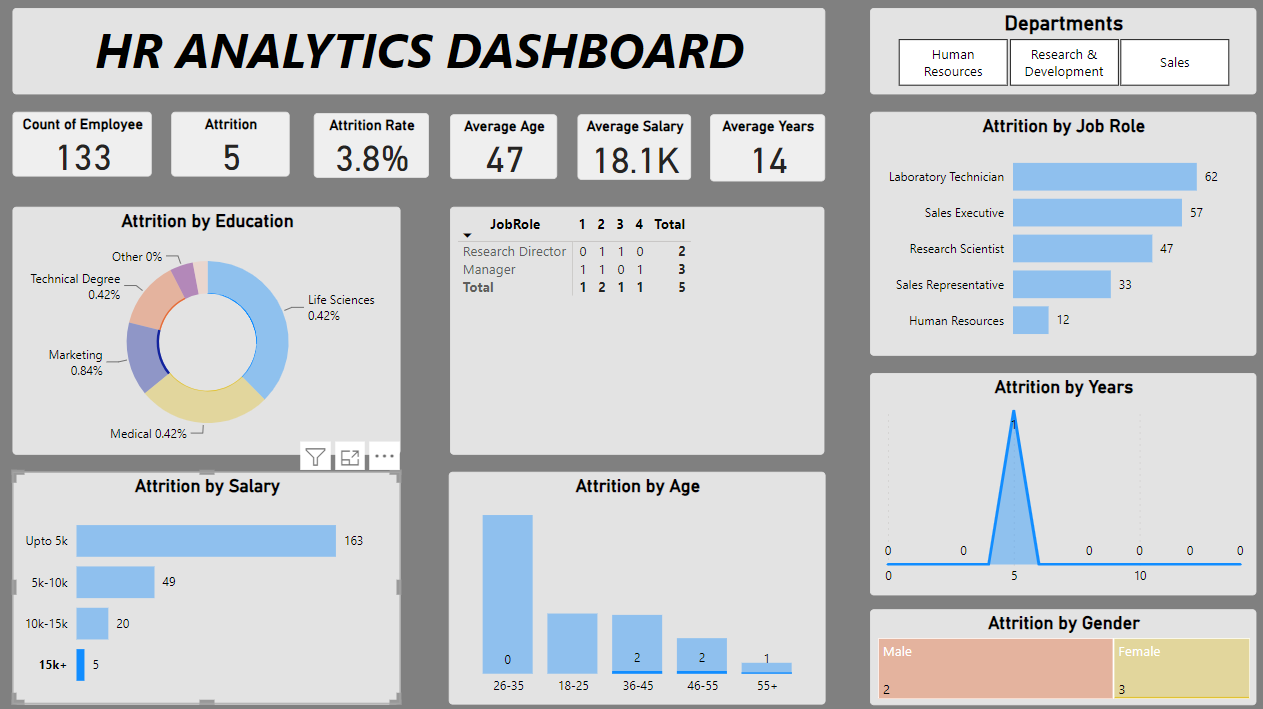

The page's visual inventory and layout, read from the dashboard file:
{"tool":"powerbi","page":{"name":"Page 1","canvas":[1280,720],"ordinal":0},"visuals":[{"type":"card","title":"Count of Employee","fields":{"Values":["CountNonNull(HR_Analytics.EmpID)"]},"box":[17,113.8,139.4,64.9],"z":0},{"type":"card","title":"Attrition","fields":{"Values":["Sum(HR_Analytics.AttritionCount)"]},"box":[176.6,113.8,118.1,64.9],"z":1000},{"type":"card","title":"Attrition Rate","fields":{"Values":["HR_Analytics.AttritionRate"]},"box":[319.1,114.9,114.9,64.9],"z":2000},{"type":"card","title":"Average Age ","fields":{"Values":["Avg(HR_Analytics.Age)"]},"box":[455.3,116,107.4,64.9],"z":3000},{"type":"card","title":"Average Salary","fields":{"Values":["Avg(HR_Analytics.MonthlyIncome)"]},"box":[583,116,113.8,66],"z":4000},{"type":"card","title":"Average Years ","fields":{"Values":["Avg(HR_Analytics.YearsAtCompany)"]},"box":[714.9,116,114.9,67],"z":5000},{"type":"donutChart","title":"Attrition by Education","fields":{"Category":["HR_Analytics.EducationField"],"Y":["Sum(HR_Analytics.AttritionCount)"]},"box":[17,208.5,388.3,247.9],"z":6000},{"type":"columnChart","title":"Attrition by Age","fields":{"Category":["HR_Analytics.AgeGroup"],"Y":["Sum(HR_Analytics.AttritionCount)"]},"box":[453.2,473.4,376.6,233],"z":7000},{"type":"pivotTable","fields":{"Rows":["HR_Analytics.JobRole"],"Columns":["HR_Analytics.JobSatisfaction"],"Values":["Sum(HR_Analytics.AttritionCount)"]},"box":[455.3,208.5,374.5,247.9],"z":8000},{"type":"barChart","title":"Attrition by Salary","fields":{"Category":["HR_Analytics.SalarySlab"],"Y":["Sum(HR_Analytics.AttritionCount)"]},"box":[17,473.4,388.3,233],"z":9000},{"type":"barChart","title":"Attrition by Job Role","fields":{"Category":["HR_Analytics.JobRole"],"Y":["Sum(HR_Analytics.AttritionCount)"]},"box":[875.5,113.8,386.2,243.6],"z":10000},{"type":"areaChart","title":"Attrition by Years","fields":{"Category":["HR_Analytics.YearsAtCompany"],"Y":["Sum(HR_Analytics.AttritionCount)"]},"box":[875,375,386.2,222.5],"z":11000},{"type":"treemap","title":"Attrition by Gender","fields":{"Group":["HR_Analytics.Gender"],"Values":["Sum(HR_Analytics.AttritionCount)"]},"box":[875.5,610.6,386.2,95.7],"z":12000},{"type":"slicer","title":"Departments","fields":{"Values":["HR_Analytics.Department"]},"box":[875.5,9.6,386.2,86.2],"z":13000},{"type":"textbox","box":[17,9.6,812.8,86.2],"z":14000}]}

Visuals, with their boxes in screenshot pixels (x1, y1, x2, y2), scaled from the page's 1280x720 canvas onto the 1263x709 screenshot:
"Count of Employee" card: [17,112,154,176]
"Attrition" card: [174,112,291,176]
"Attrition Rate" card: [315,113,428,177]
"Average Age " card: [449,114,555,178]
"Average Salary" card: [575,114,688,179]
"Average Years " card: [705,114,819,180]
"Attrition by Education" donutChart: [17,205,400,449]
"Attrition by Age" columnChart: [447,466,819,696]
pivotTable - HR_Analytics.JobRole x HR_Analytics.JobSatisfaction: [449,205,819,449]
"Attrition by Salary" barChart: [17,466,400,696]
"Attrition by Job Role" barChart: [864,112,1245,352]
"Attrition by Years" areaChart: [863,369,1244,588]
"Attrition by Gender" treemap: [864,601,1245,696]
"Departments" slicer: [864,9,1245,94]
textbox: [17,9,819,94]
